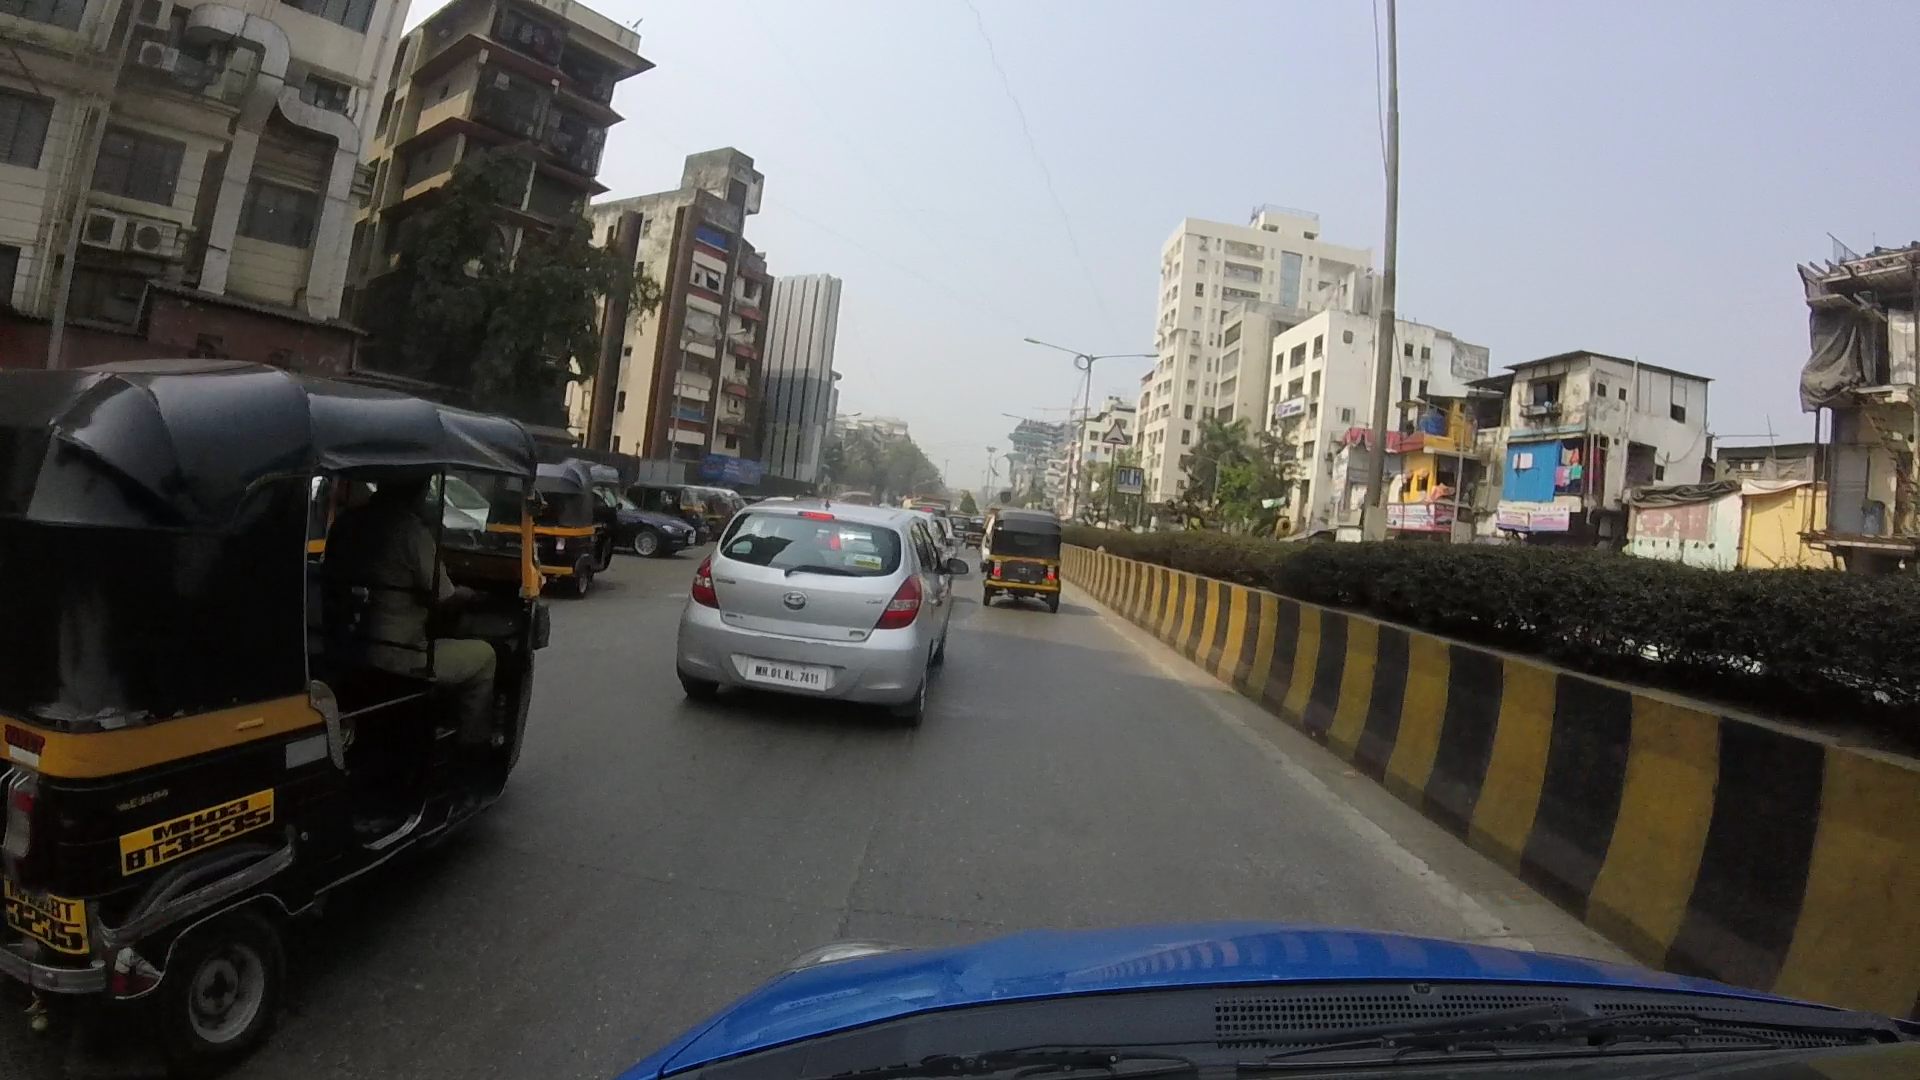car: (671, 487, 949, 740)
rickshaw: (5, 351, 556, 1048), (514, 431, 626, 601), (967, 492, 1083, 644)
